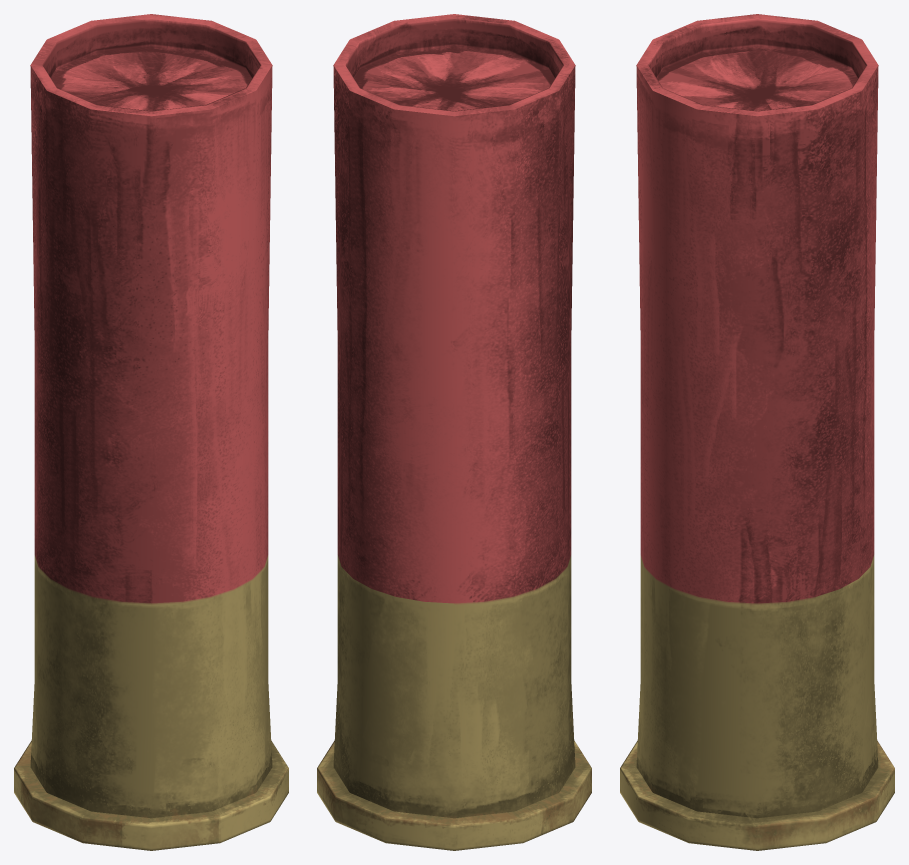
The model's file is ShotgunBuckshotShell.glb.
3 renders of one model, left to right at view 1: azimuth 30°, elevation 25°; view 2: azimuth 150°, elevation 25°; view 3: azimuth 270°, elevation 25°, orthographic.
Parts seen in each view (by area): view 1: ShotgunBuckshotShell; view 2: ShotgunBuckshotShell; view 3: ShotgunBuckshotShell.
Boxes of the visible parts, box(x1,y1,x2,y2) form: ShotgunBuckshotShell: box(14, 14, 288, 850); ShotgunBuckshotShell: box(317, 14, 591, 850); ShotgunBuckshotShell: box(620, 14, 894, 850).
Size of the model in its own units: 0.0436 by 0.1276 by 0.0436.
1 material, 1 textured.
